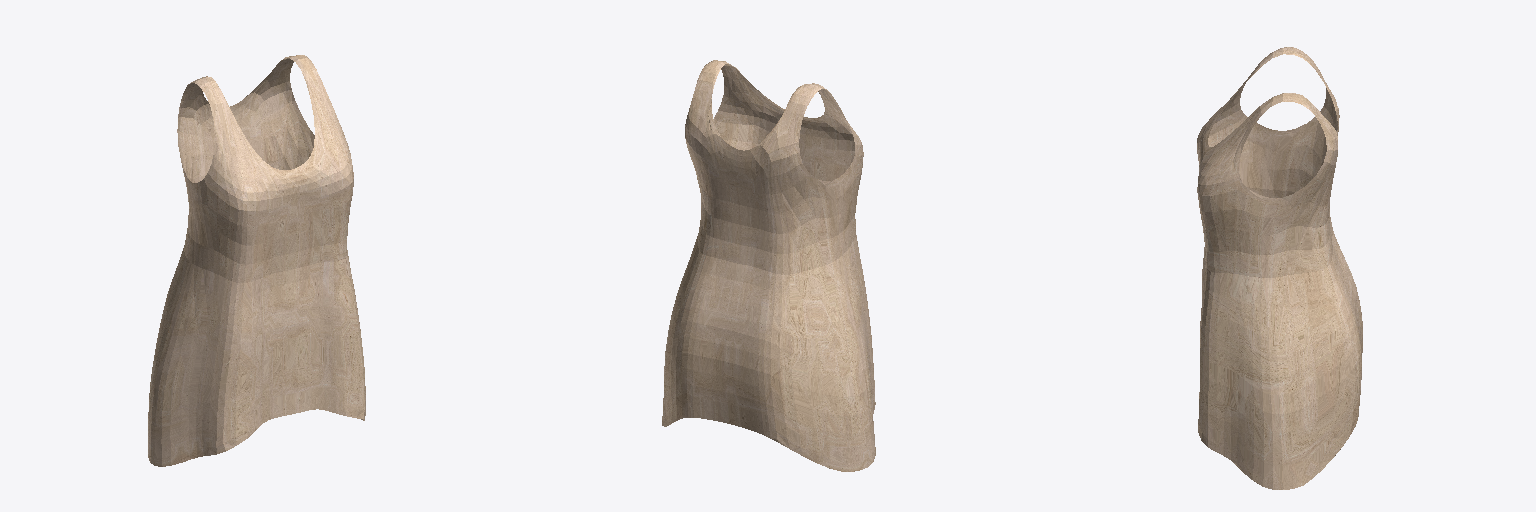
3 renders of one model, left to right at view 1: azimuth 30°, elevation 25°; view 2: azimuth 150°, elevation 25°; view 3: azimuth 270°, elevation 25°, orthographic.
Bounding box in the file's own units: 44.2 × 75.92 × 30.92.
Materials: 1 (1 with a texture image).